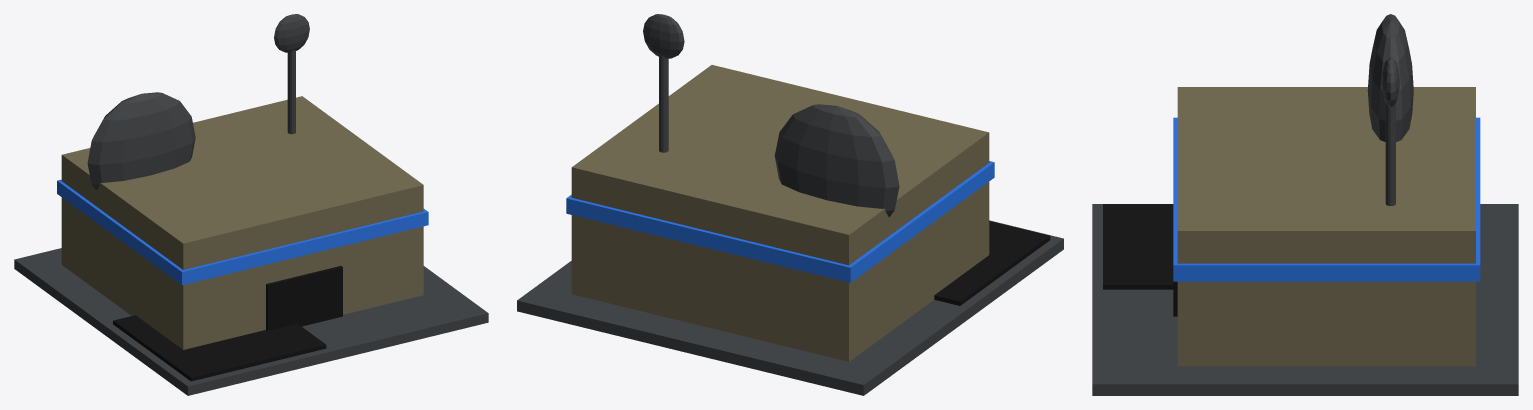
File: us_drone_center.glb
The picture shows the model from 3 angles, left to right: view 1: azimuth 30°, elevation 25°; view 2: azimuth 150°, elevation 25°; view 3: azimuth 270°, elevation 25°; orthographic projection. The views are drawn at different scales.
Parts seen in each view (by area): view 1: main, base, dish_big, pad, team_band, door, dish, mast; view 2: main, base, dish_big, team_band, pad, dish, mast; view 3: main, base, team_band, pad, dish_big, mast, dish.
Part boxes in pixels (left/top/right/bottom): main: left=61, top=96, right=423, bottom=349; base: left=14, top=248, right=488, bottom=395; dish_big: left=87, top=92, right=195, bottom=190; pad: left=113, top=315, right=326, bottom=381; team_band: left=57, top=179, right=428, bottom=285; door: left=266, top=266, right=342, bottom=330; dish: left=274, top=14, right=309, bottom=52; mast: left=287, top=50, right=295, bottom=134; main: left=571, top=65, right=989, bottom=361; base: left=517, top=220, right=1063, bottom=395; dish_big: left=774, top=104, right=899, bottom=217; team_band: left=566, top=161, right=994, bottom=282; pad: left=934, top=221, right=1050, bottom=305; dish: left=643, top=14, right=684, bottom=58; mast: left=659, top=55, right=668, bottom=152; main: left=1177, top=87, right=1475, bottom=366; base: left=1092, top=204, right=1518, bottom=395; team_band: left=1173, top=117, right=1480, bottom=281; pad: left=1103, top=204, right=1173, bottom=289; dish_big: left=1367, top=14, right=1413, bottom=141; mast: left=1385, top=103, right=1395, bottom=205; dish: left=1382, top=56, right=1399, bottom=107.
Bounding box in the file's own units: 10 × 7.55 × 10.
